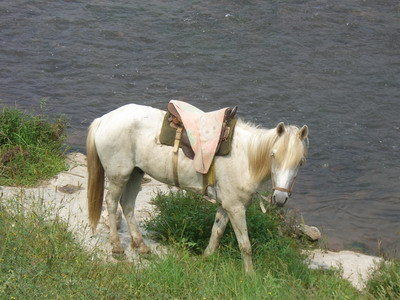horse: (85, 101, 311, 276)
